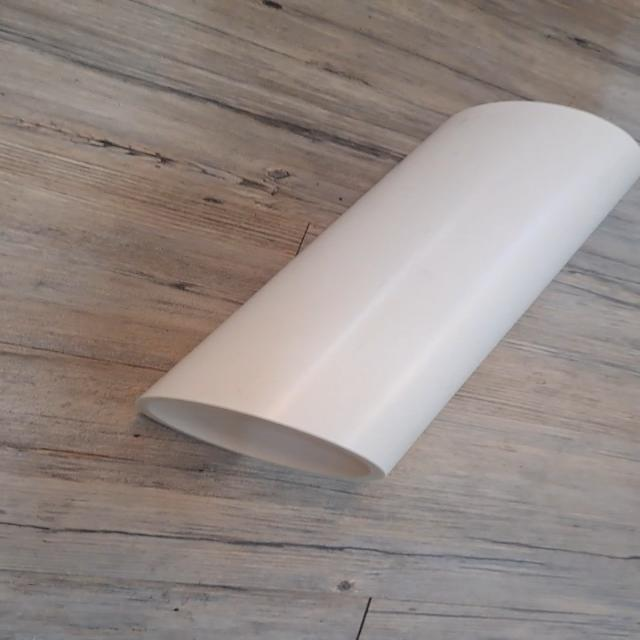CORAL: (125, 86, 640, 483)
